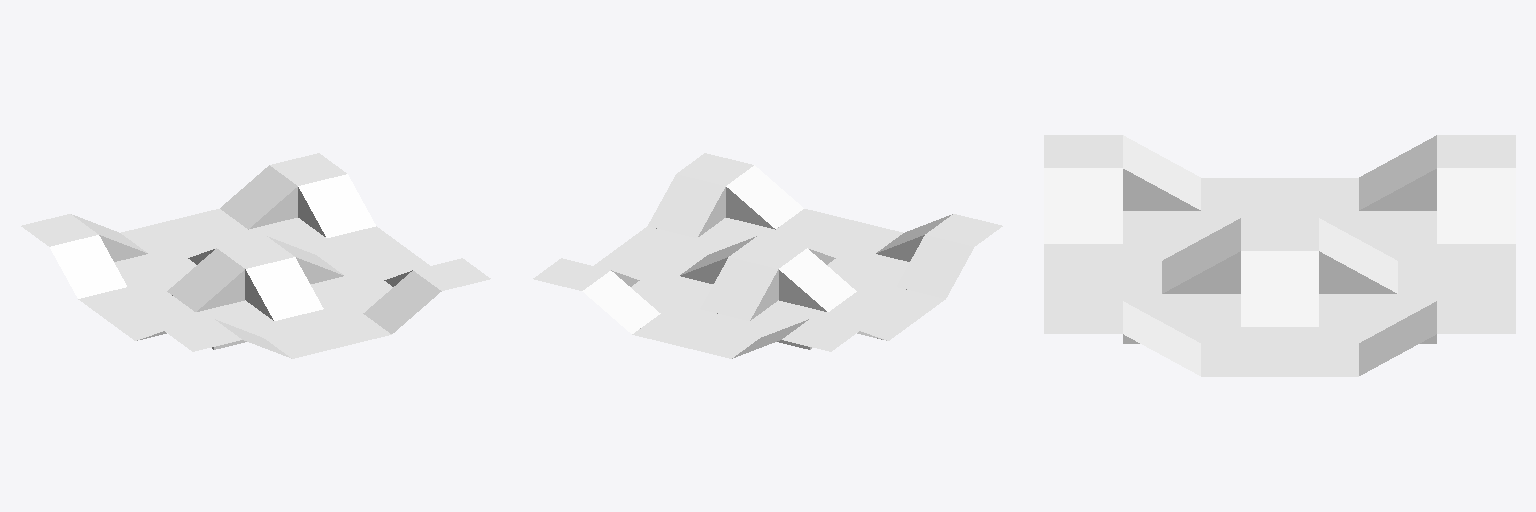
URDF robot description (tag1_1):
<?xml version="1.0" ?>
<robot name="tag1_1">
  <link name="ground">
  <contact>
      <lateral_friction value="2"/>
  </contact>
    <inertial>
      <origin rpy="0 0 0" xyz="0 0 0"/>
       <mass value="1000.0"/>
       <inertia ixx="0" ixy="0" ixz="0" iyy="0" iyz="0" izz="0"/>
    </inertial>
    <visual>
      <origin rpy="0 0 0" xyz="0 0 0"/>
      <geometry>
        <mesh filename="tag1_6.obj" scale="1 1 1"/>
      </geometry>
       <material name="white">
        <color rgba="1 1 1 1"/>
      </material>
    </visual>
        <collision concave="yes">
      <origin rpy="0 0 0" xyz="0 0 0"/>
      <geometry>
        <mesh filename="tag1_6.obj" scale="1 1 1"/>
      </geometry>
    </collision>
  </link>
</robot>

--- Facts derived from the render (not from the file) ---
Views: 3 orthographic renders of the robot side by side, from view 1: azimuth 30°, elevation 25°; view 2: azimuth 150°, elevation 25°; view 3: azimuth 270°, elevation 25°.
Robot: tag1_1 — 1 links, 0 joints (none); root link ground; default pose: all joints at 0.
Visible links, largest first — view 1: ground; view 2: ground; view 3: ground.
Boxes of the visible links, x1,y1,x2,y2 form: ground: [21, 153, 490, 358]; ground: [533, 153, 1002, 358]; ground: [1044, 135, 1515, 376].
Bounding box of the posed robot: 30 × 30 × 3 m (x, y, z).
Meshes: 1 distinct files referenced, 1 mesh visuals loaded (1 OBJ).